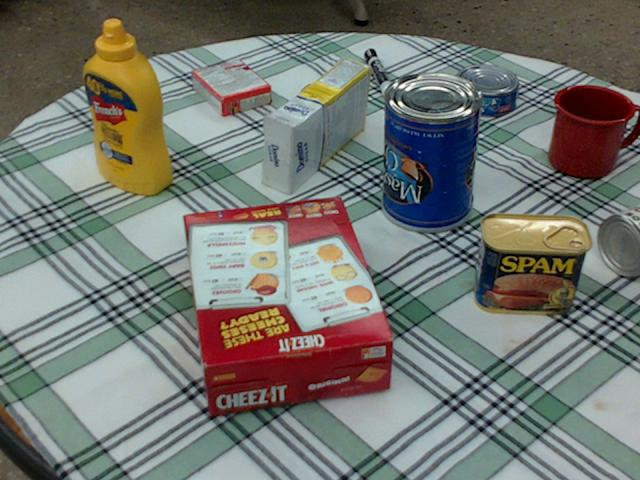cracker_box: (181, 197, 395, 416)
gelatin_box: (191, 60, 270, 116)
large_marker: (365, 47, 395, 97)
master_chef_can: (379, 71, 484, 230)
mug: (549, 85, 639, 178)
mustard_bottle: (83, 19, 170, 193)
potted_meat_can: (473, 213, 590, 313)
sugar_box: (263, 57, 370, 194)
tomato_soup_can: (598, 204, 639, 275)
tuna_fish_can: (453, 64, 519, 115)
